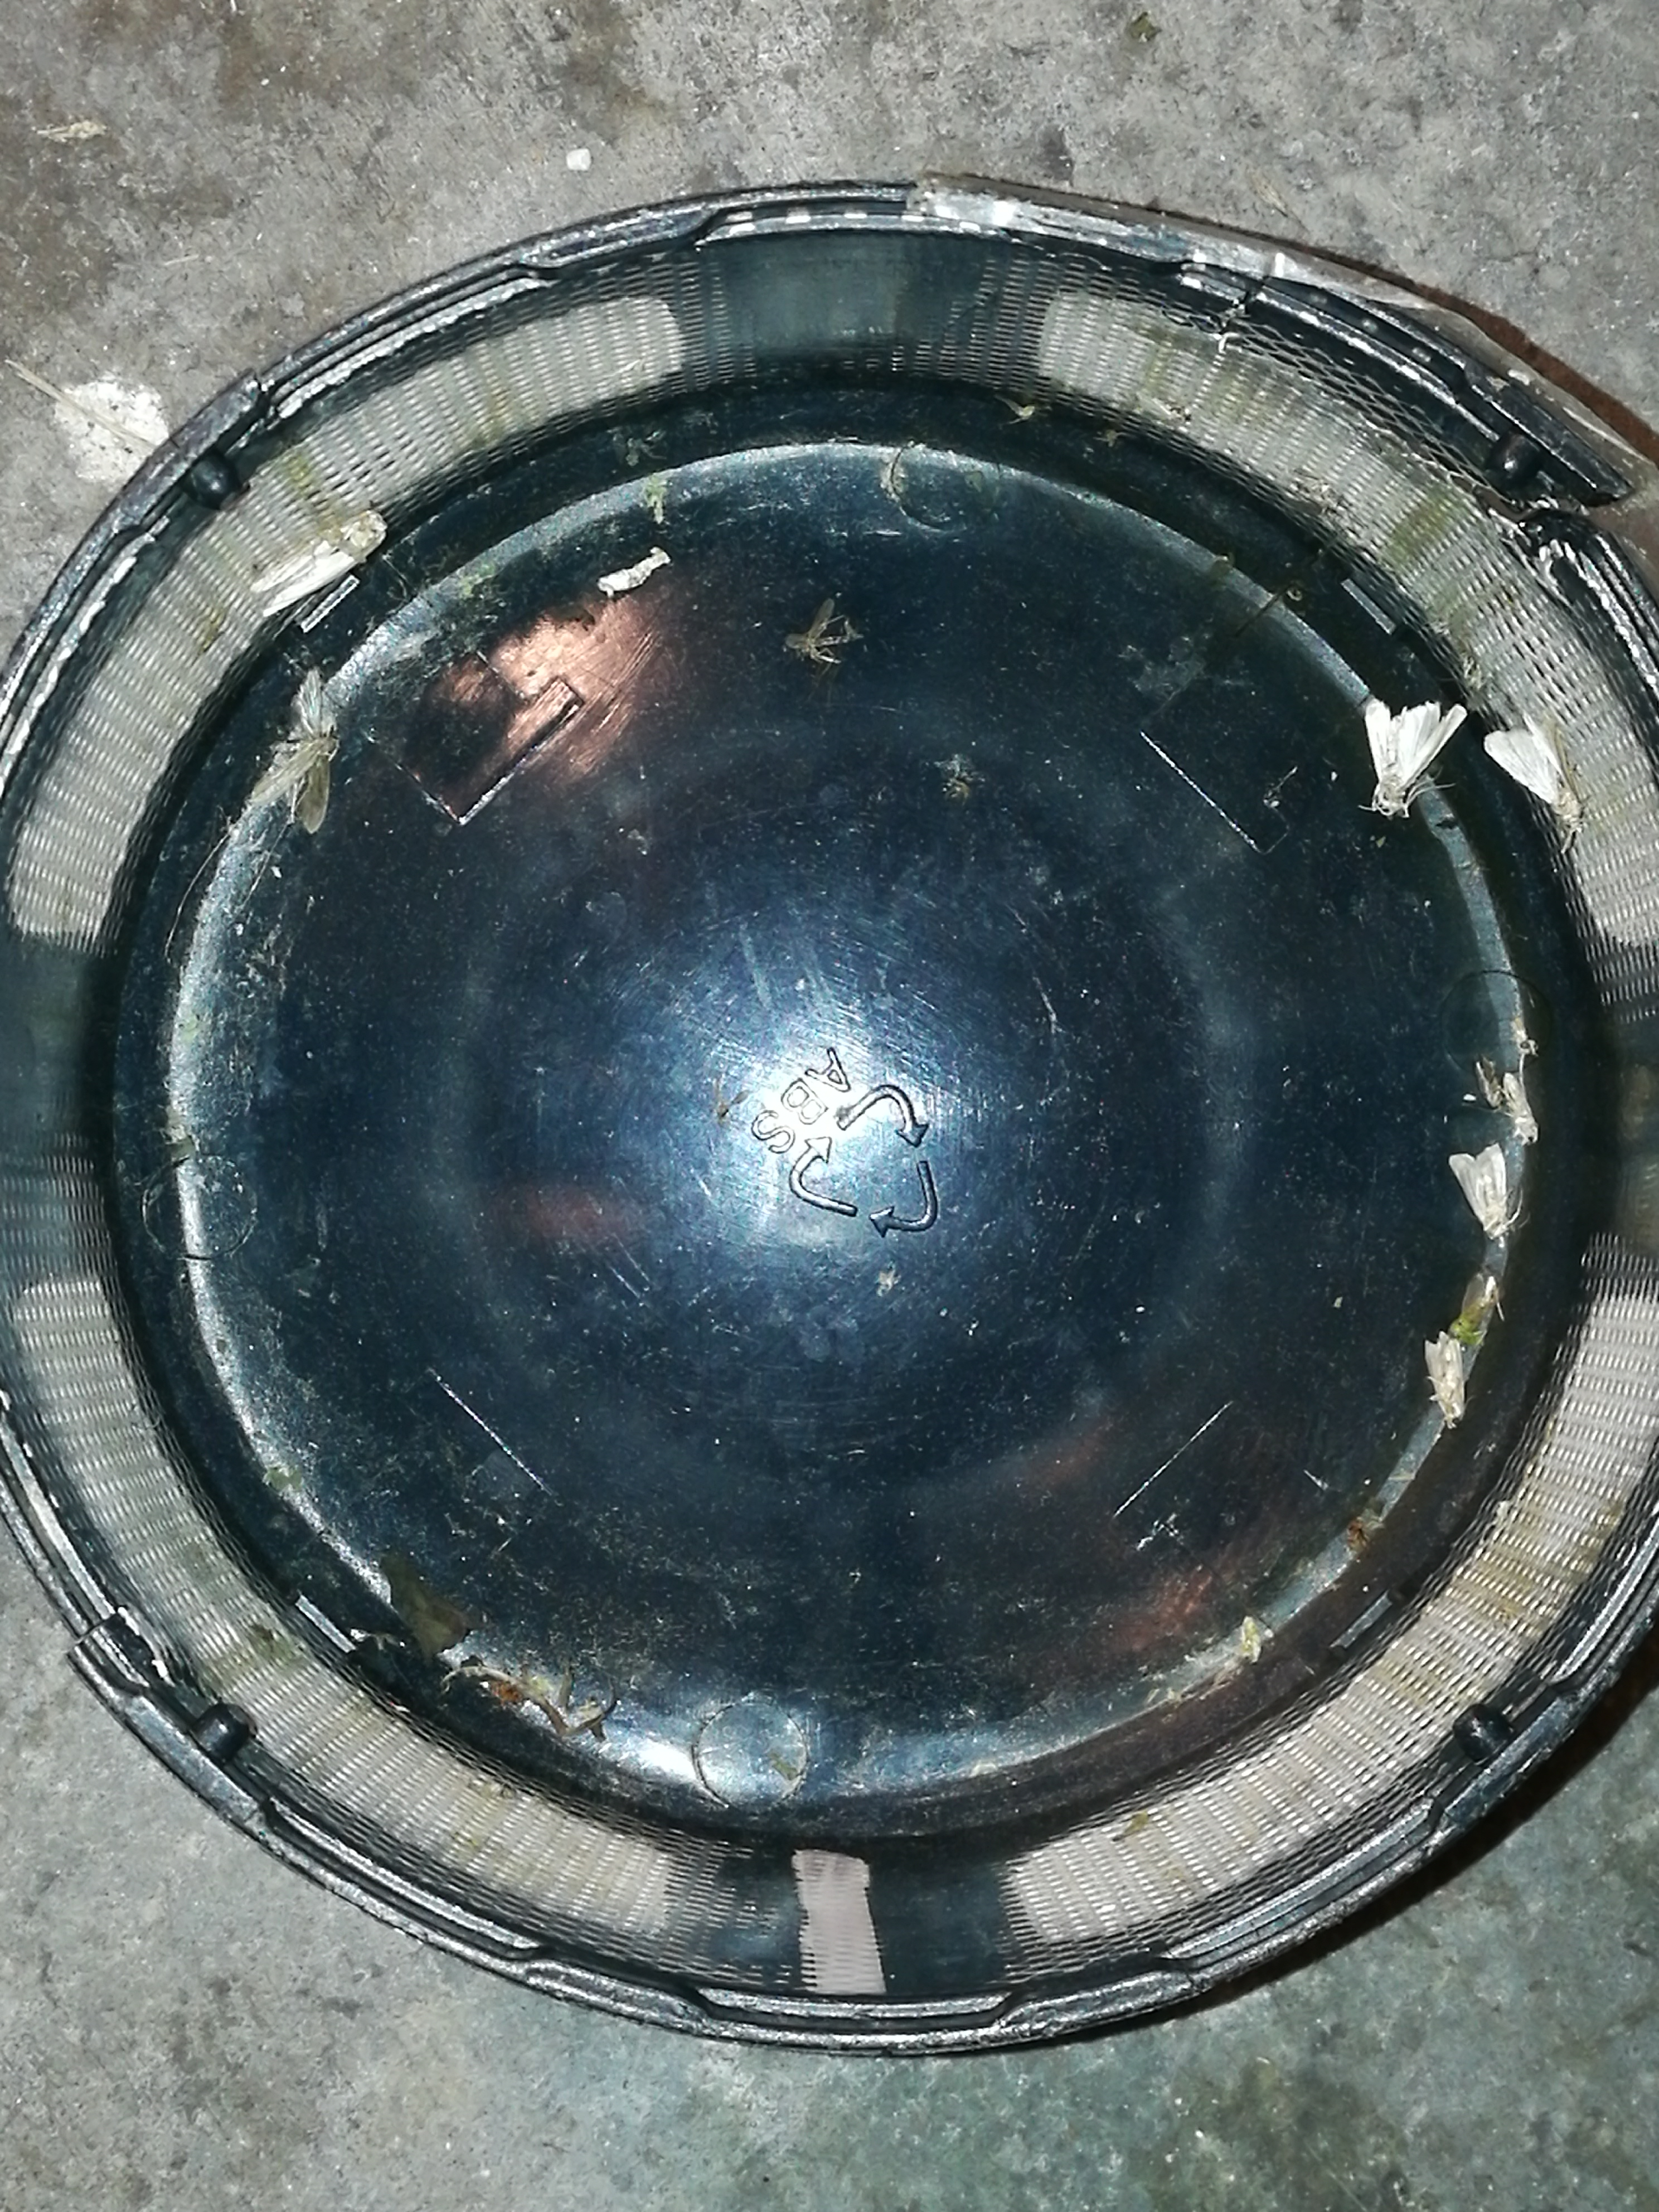mosquito: (253, 510, 385, 618), (1422, 1329, 1462, 1426)
moth: (253, 669, 342, 834), (1366, 697, 1466, 817), (1485, 711, 1581, 827), (1450, 1143, 1511, 1245)
